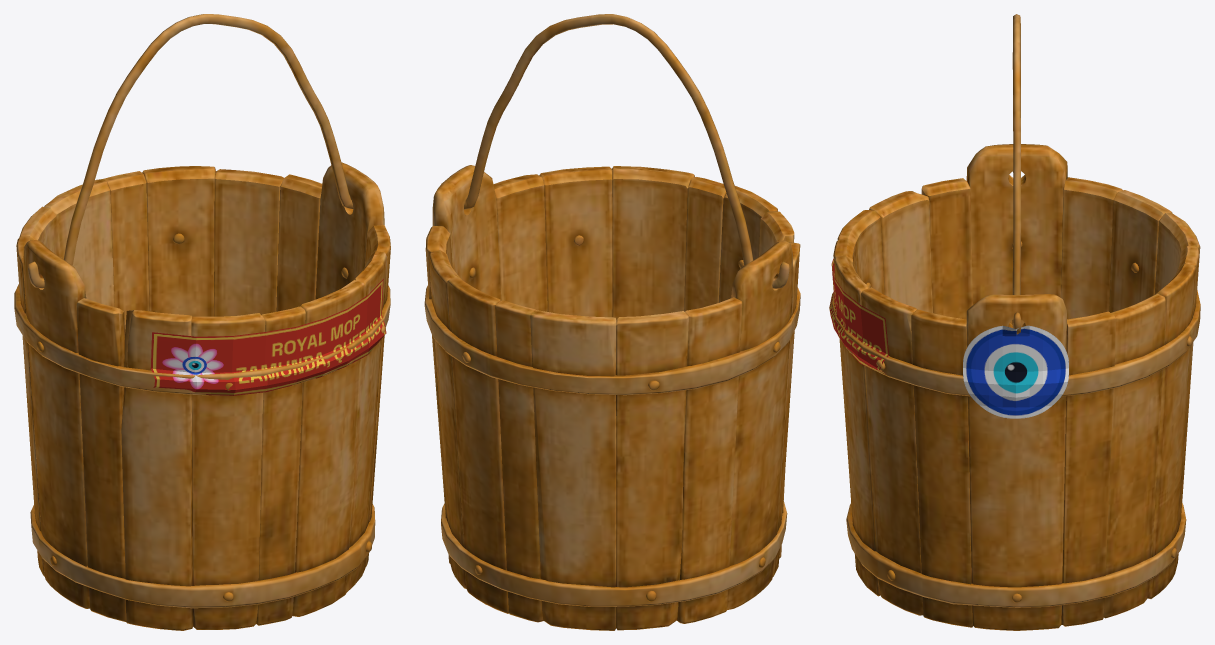
Rendered from nyb_mcmlow_bucket.glb.
The picture shows the model from 3 angles, left to right: view 1: azimuth 30°, elevation 25°; view 2: azimuth 150°, elevation 25°; view 3: azimuth 270°, elevation 25°; orthographic projection.
Parts seen in each view (by area): view 1: wooden_bucket_01, stk_lbl_216d471fbd.png; view 2: wooden_bucket_01; view 3: wooden_bucket_01, stk_nazar_die.png, stk_lbl_216d471fbd.png.
Part boxes in pixels (x1,y1,x2,y2): wooden_bucket_01: (14, 14, 390, 630); stk_lbl_216d471fbd.png: (150, 279, 386, 395); wooden_bucket_01: (424, 14, 800, 630); wooden_bucket_01: (831, 14, 1200, 630); stk_nazar_die.png: (963, 325, 1068, 418); stk_lbl_216d471fbd.png: (829, 259, 888, 373).
Bounding box in the file's own units: 0.3681 × 0.5499 × 0.3441.
3 materials, 3 textured.
